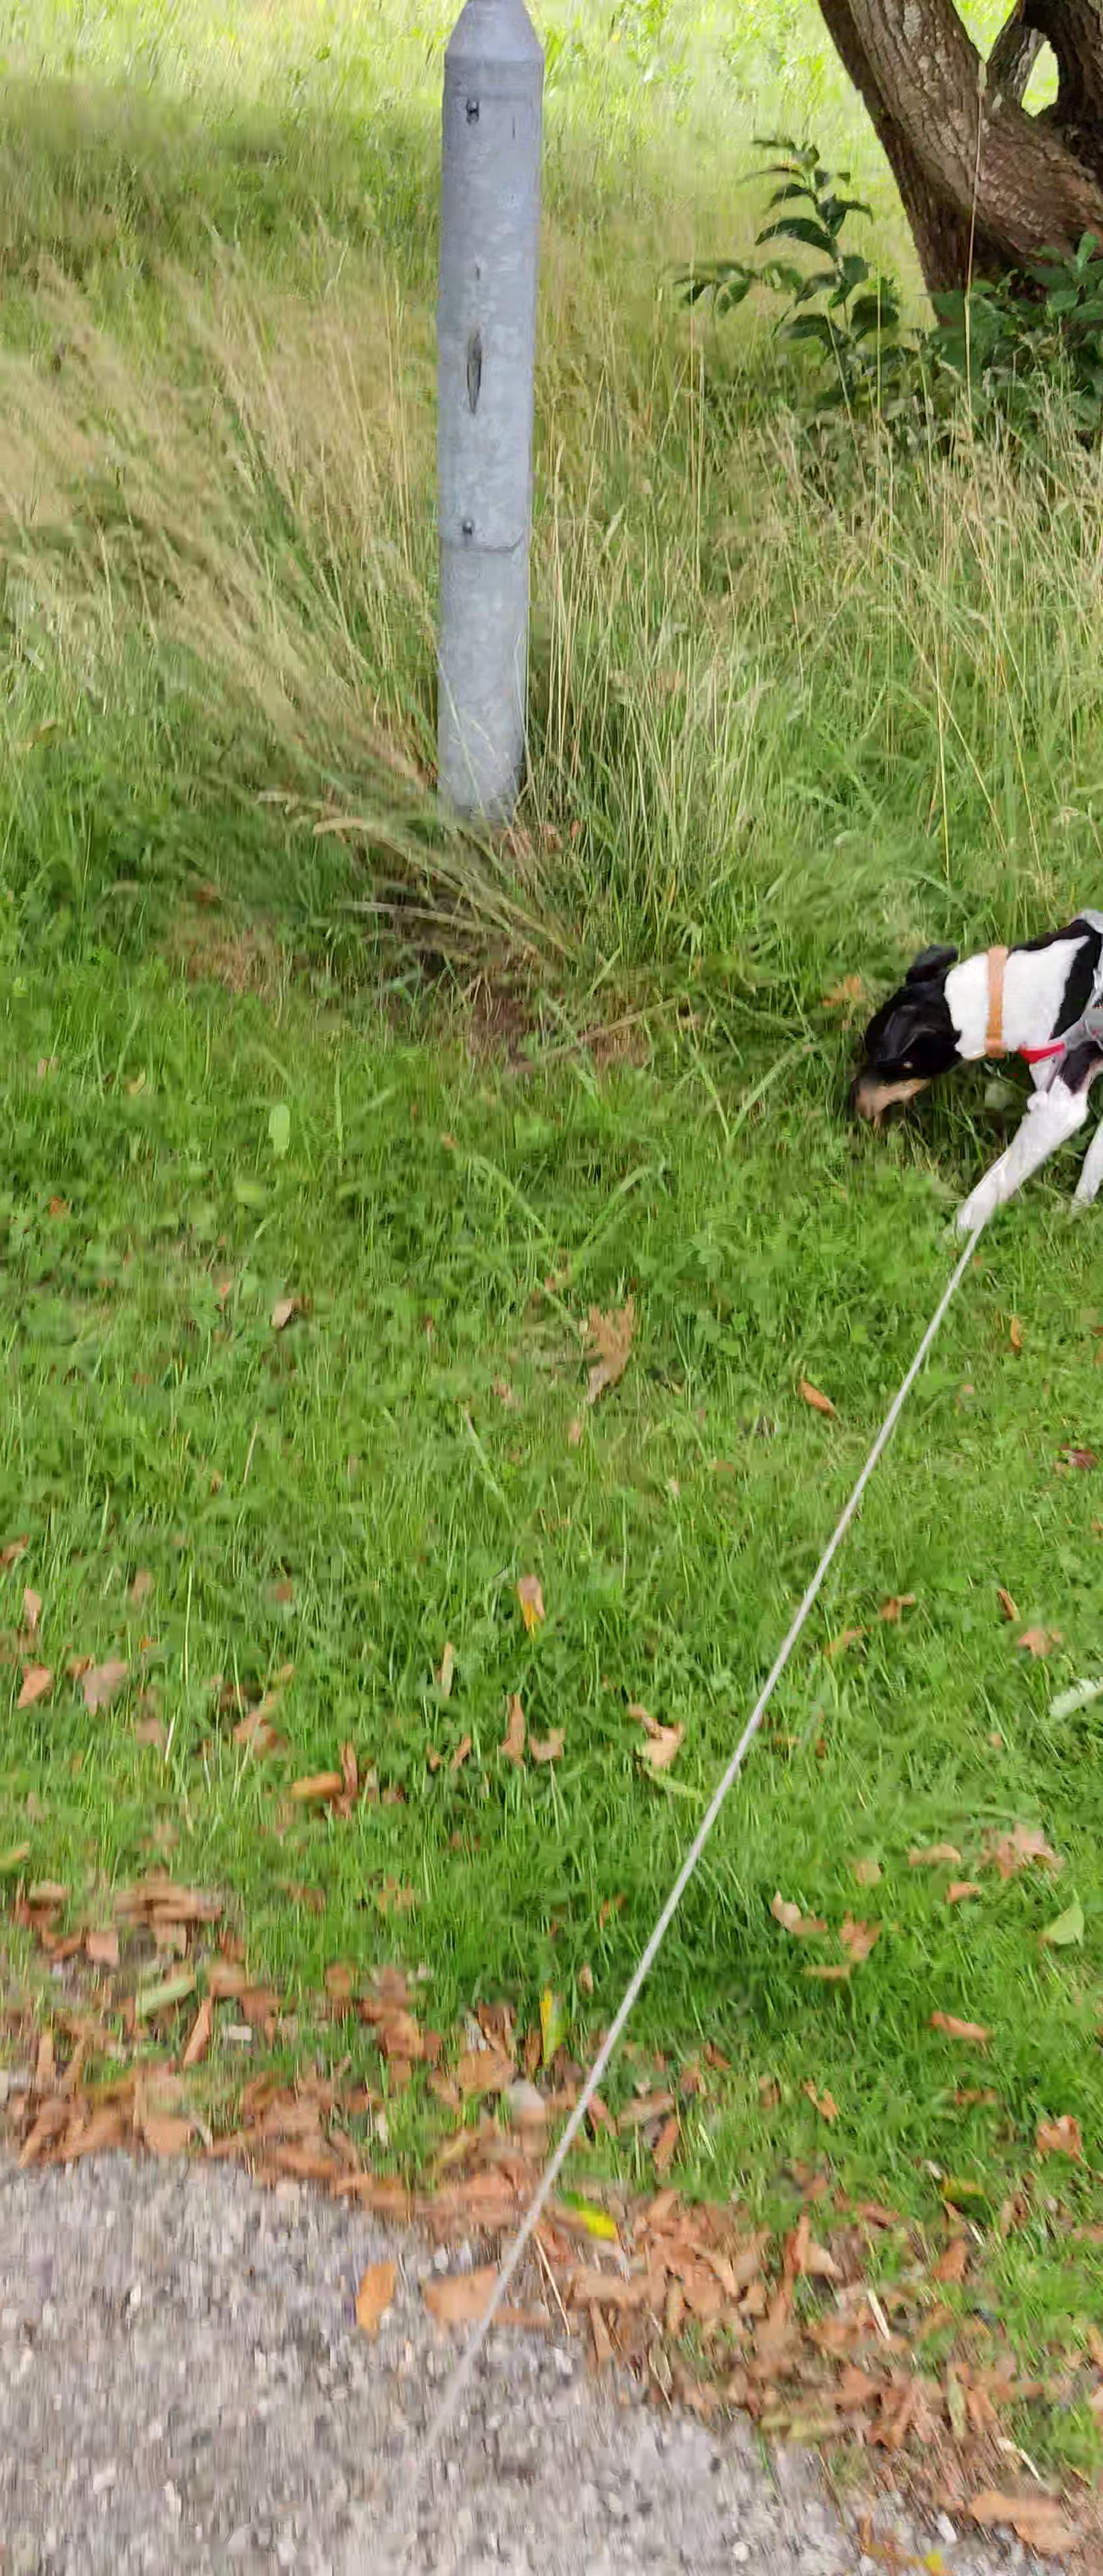Dog: (815, 871, 1103, 1293)
